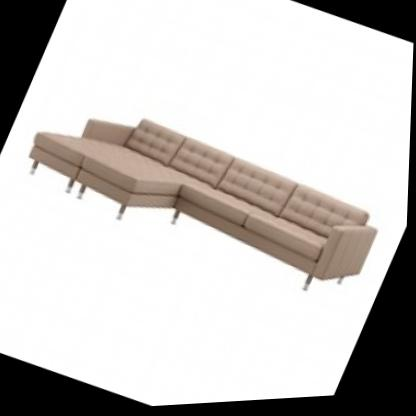Sofa: (0, 58, 401, 348)
